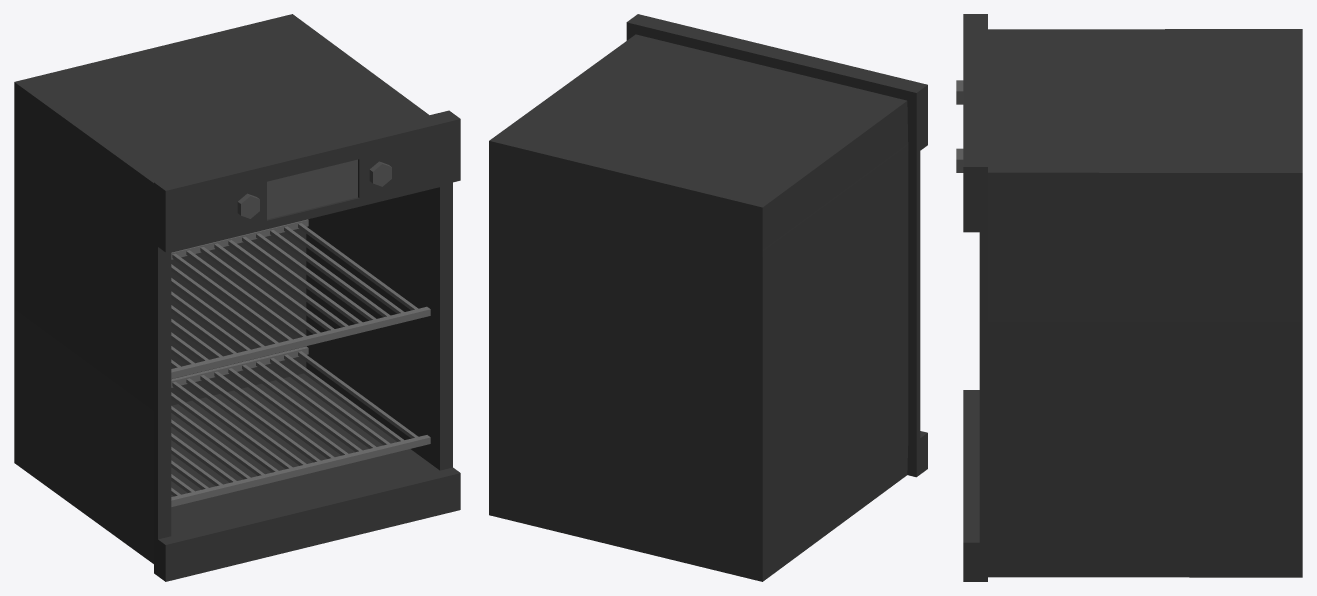
Rendered from Oven1_01.fbx.
3 views of the same model, side by side, from view 1: azimuth 30°, elevation 25°; view 2: azimuth 150°, elevation 25°; view 3: azimuth 270°, elevation 25° (orthographic). The views are drawn at different scales.
Visible parts, largest first — view 1: Oven1_01; view 2: Oven1_01; view 3: Oven1_01.
Boxes of the visible parts, x1=… form: Oven1_01: x1=14, y1=14, x2=460, y2=581; Oven1_01: x1=489, y1=14, x2=927, y2=581; Oven1_01: x1=956, y1=14, x2=1302, y2=581.
Size of the model in its own units: 59.17 by 74.94 by 56.65.
